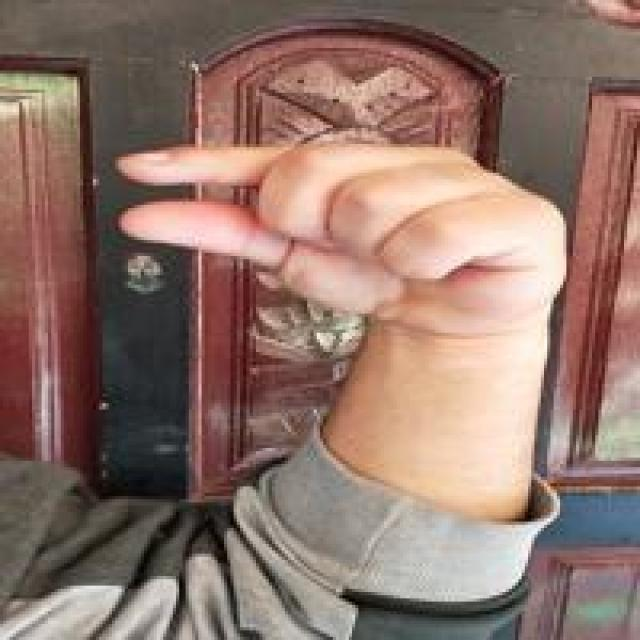G: (107, 134, 571, 330)
